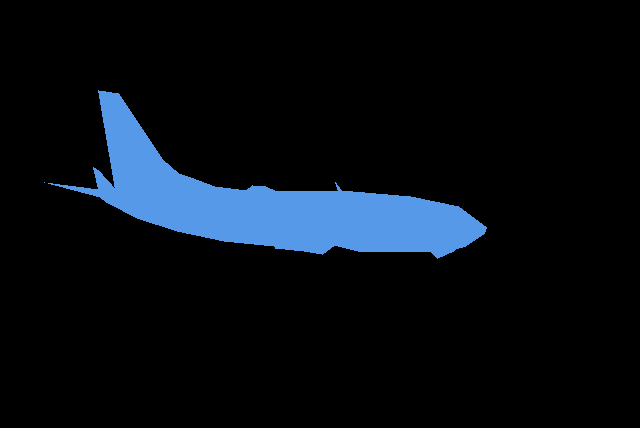Airplane: (44, 90, 486, 258)
